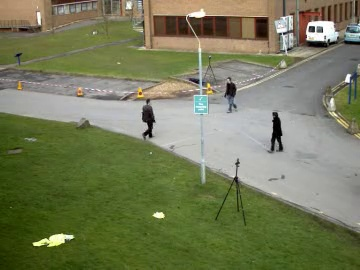person: (267, 112, 285, 153), (140, 98, 157, 140), (223, 76, 238, 111)
